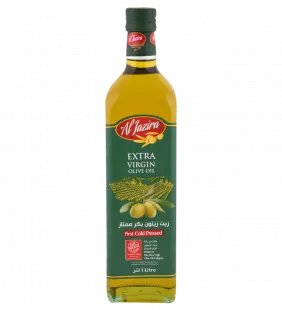MARASCA JAZIRA: (99, 0, 188, 310)
